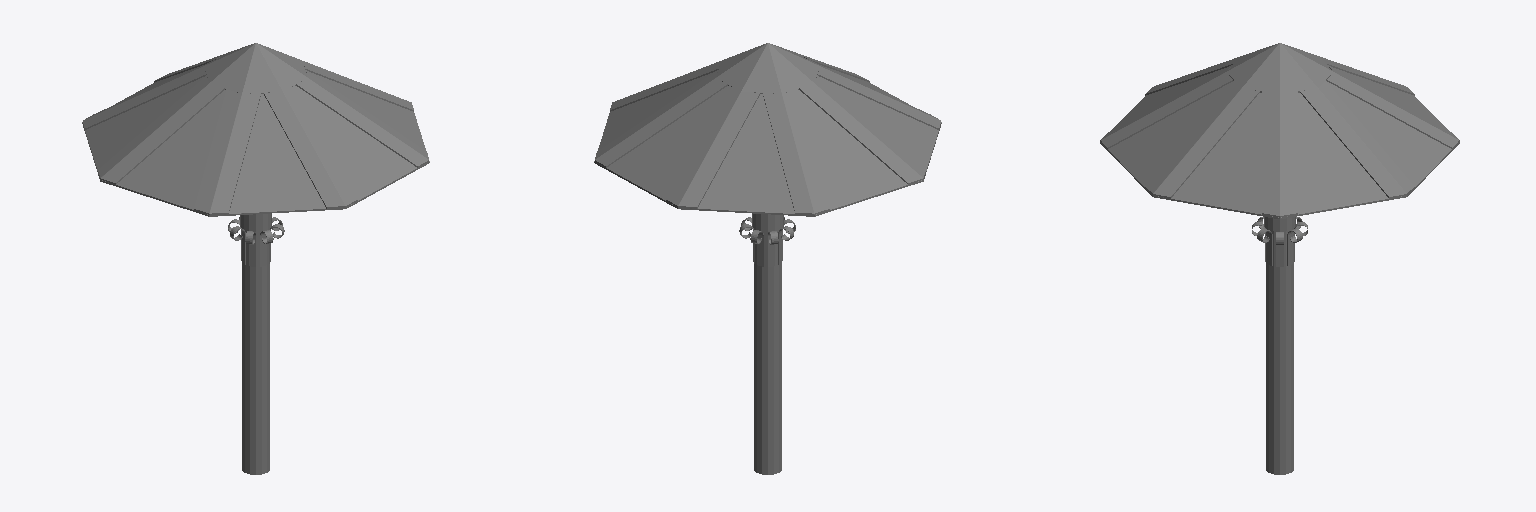
The model's file is tent.obj.
3 views of the same model, side by side, from view 1: azimuth 30°, elevation 25°; view 2: azimuth 150°, elevation 25°; view 3: azimuth 270°, elevation 25° (orthographic).
Parts seen in each view (by area): view 1: Cylinder16; view 2: Cylinder16; view 3: Cylinder16.
Part boxes in pixels (x1,y1,x2,y2): Cylinder16: (82,43,429,474); Cylinder16: (594,43,941,474); Cylinder16: (1100,43,1459,474).
Size of the model in its own units: 200 by 262 by 200.